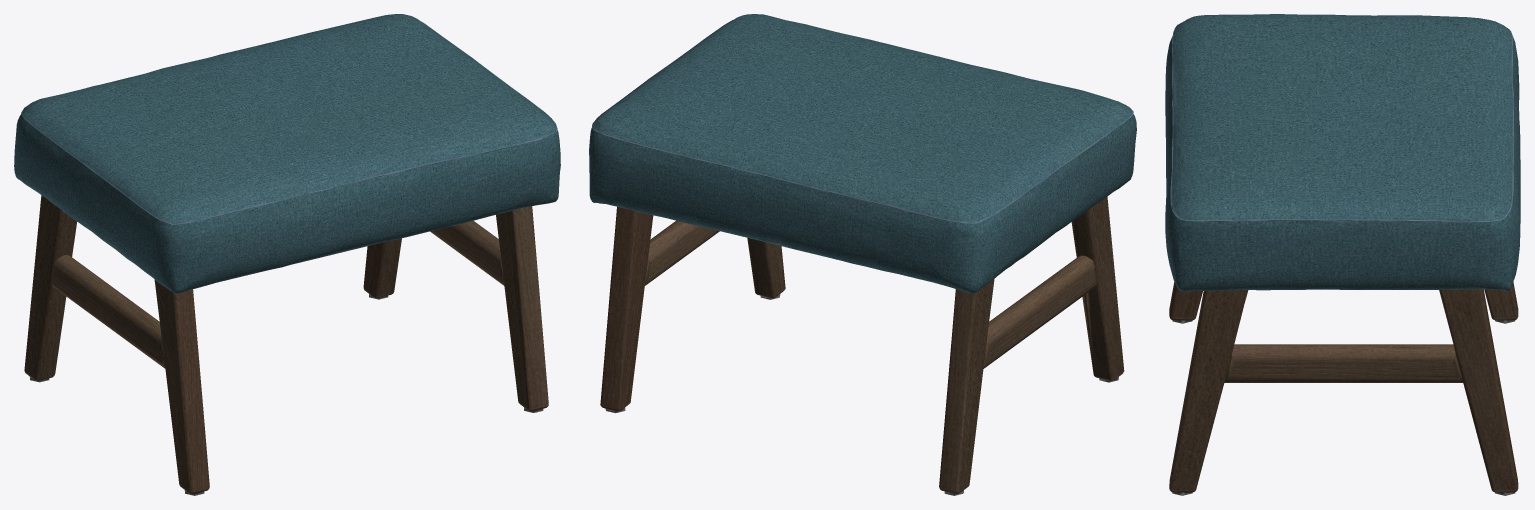
The model's file is ekenaset_podnozek_10624432.glb.
3 views of the same model, side by side, from view 1: azimuth 30°, elevation 25°; view 2: azimuth 150°, elevation 25°; view 3: azimuth 270°, elevation 25° (orthographic). The views are drawn at different scales.
Visible parts, largest first — view 1: ekenaset_podnozek_10624432; view 2: ekenaset_podnozek_10624432; view 3: ekenaset_podnozek_10624432.
Boxes of the visible parts, x1=… form: ekenaset_podnozek_10624432: x1=14, y1=14, x2=560, y2=495; ekenaset_podnozek_10624432: x1=589, y1=14, x2=1136, y2=495; ekenaset_podnozek_10624432: x1=1165, y1=14, x2=1520, y2=495.
Size of the model in its own units: 0.5853 by 0.4024 by 0.4276.
1 material, 1 textured.
